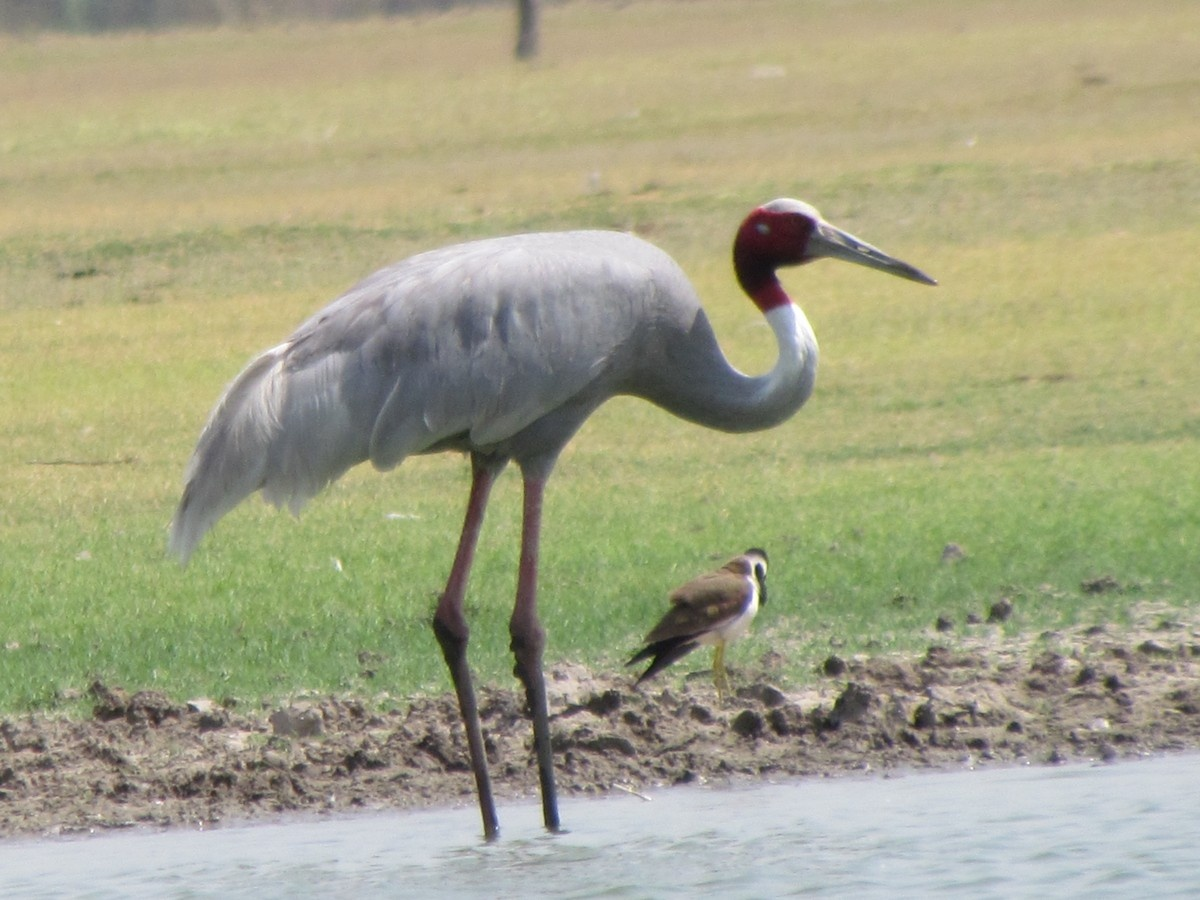crane: (136, 193, 950, 846)
